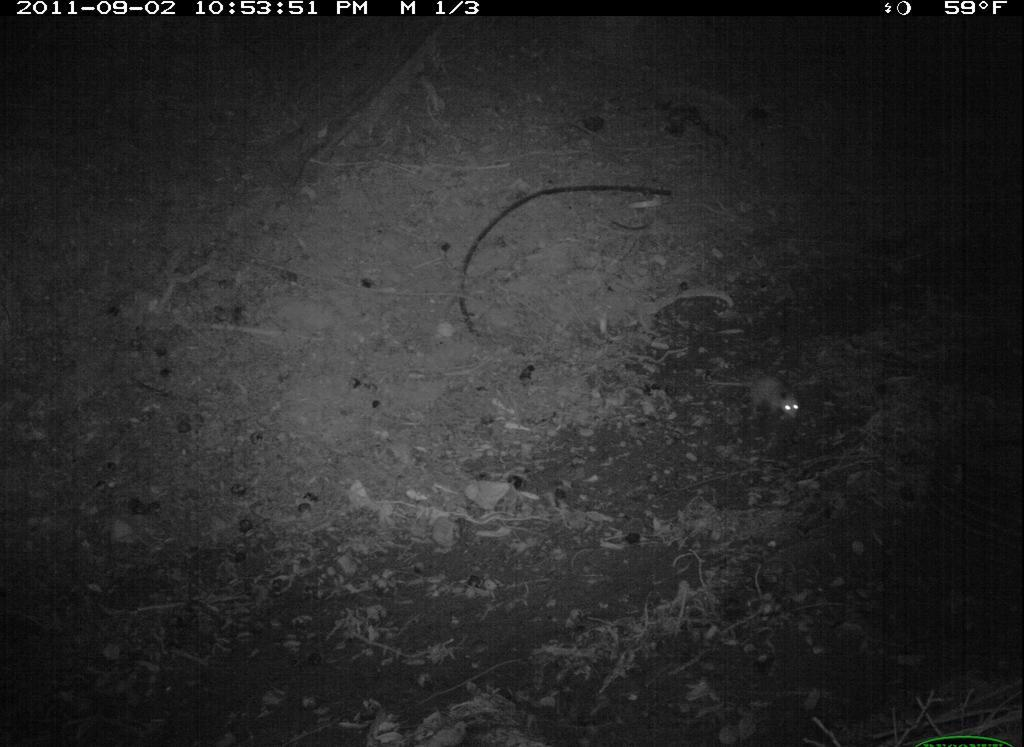opossum: (699, 371, 803, 423)
